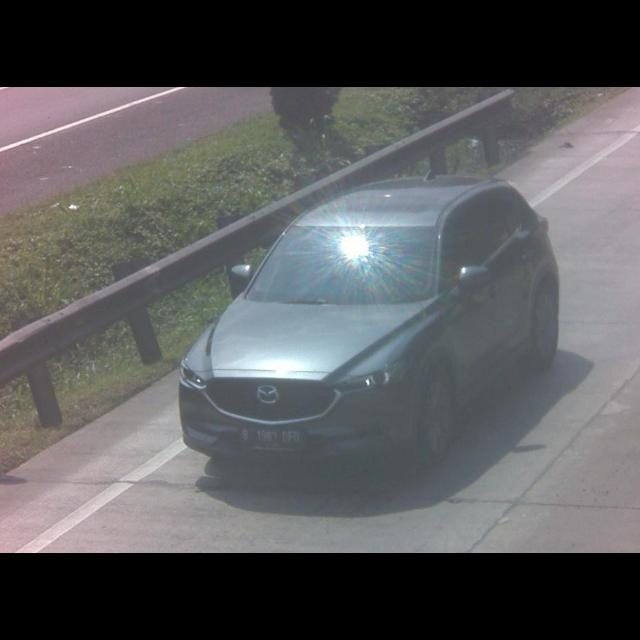plate: (240, 424, 306, 450)
